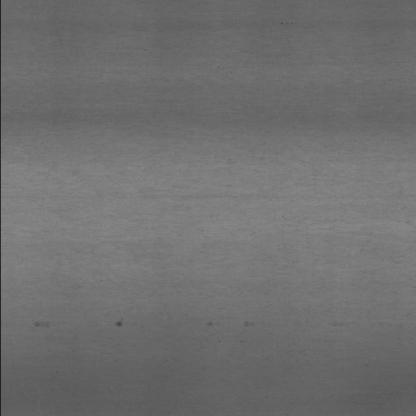oil_spot: (25, 317, 60, 328), (202, 320, 224, 330), (113, 319, 132, 330), (237, 321, 261, 328)
